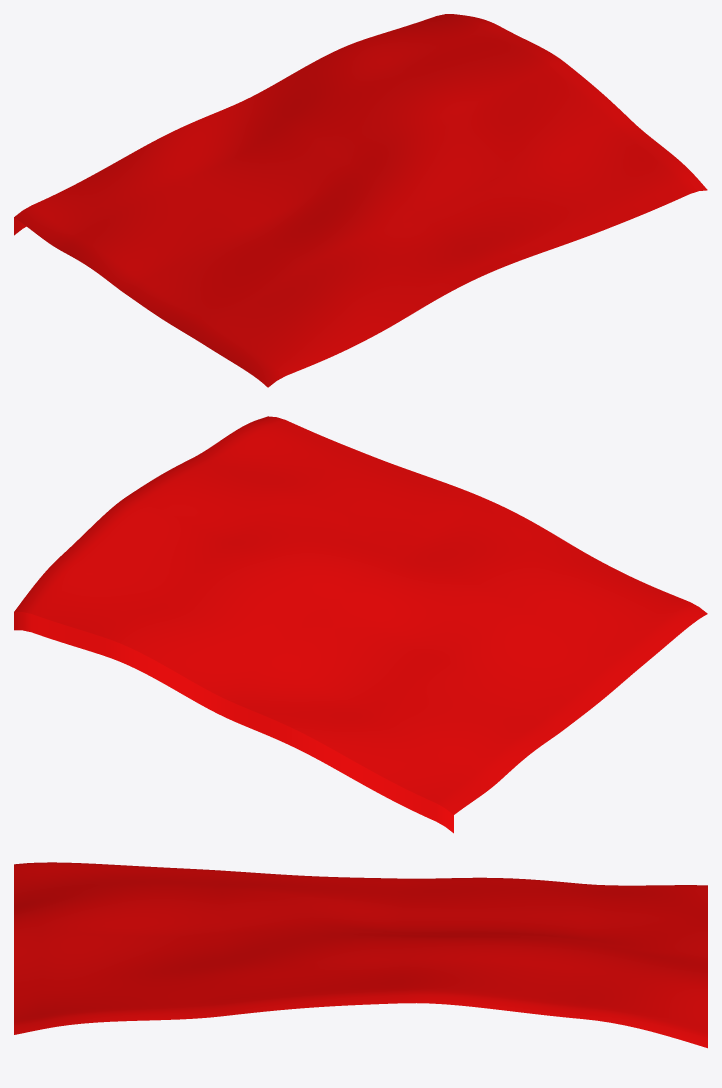
The model's file is terrain_2_3.glb.
3 renders of one model, top to bottom at view 1: azimuth 30°, elevation 25°; view 2: azimuth 150°, elevation 25°; view 3: azimuth 270°, elevation 25°, orthographic. The views are drawn at different scales.
Parts seen in each view (by area): view 1: terrain_2_3.0; view 2: terrain_2_3.0, terrain_2_3.1; view 3: terrain_2_3.0.
Boxes of the visible parts, box(x1,y1,x2,y2) form: terrain_2_3.0: box(14, 14, 707, 387); terrain_2_3.0: box(14, 416, 707, 814); terrain_2_3.1: box(14, 612, 453, 833); terrain_2_3.0: box(14, 862, 707, 1048).
Size of the model in its own units: 50 by 16.16 by 50.
